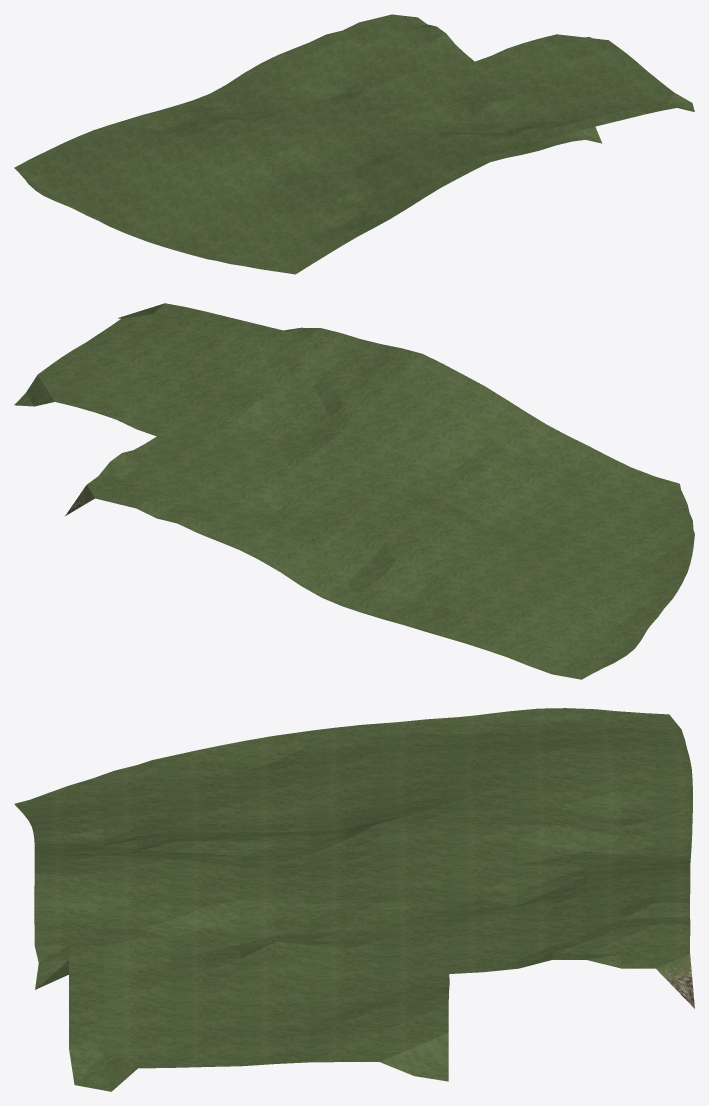
The model's file is a_carisle_mid_landmass_01_03.fbx.
The picture shows the model from 3 angles, top to bottom: view 1: azimuth 30°, elevation 25°; view 2: azimuth 150°, elevation 25°; view 3: azimuth 270°, elevation 25°; orthographic projection. The views are drawn at different scales.
Parts seen in each view (by area): view 1: a_carisle_mid_landmass_01_03; view 2: a_carisle_mid_landmass_01_03; view 3: a_carisle_mid_landmass_01_03.
Part boxes in pixels (x1,y1,x2,y2): a_carisle_mid_landmass_01_03: (14, 14, 694, 274); a_carisle_mid_landmass_01_03: (14, 303, 694, 679); a_carisle_mid_landmass_01_03: (14, 708, 694, 1091).
Bounding box in the file's own units: 78.05 × 47.51 × 8.53.
